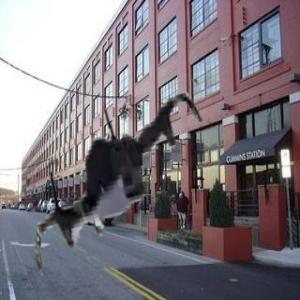drone: (6, 67, 221, 282)
